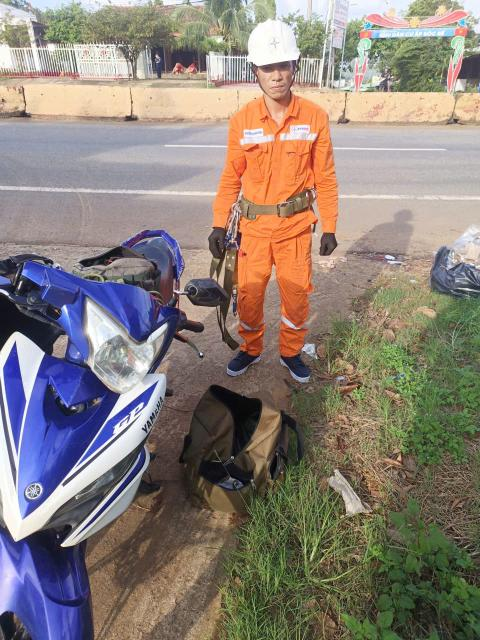gloves: (205, 217, 239, 273), (317, 224, 342, 268)
harness: (227, 184, 325, 232)
helmet: (239, 14, 311, 99)
shoes: (276, 343, 319, 398), (218, 335, 271, 377)
